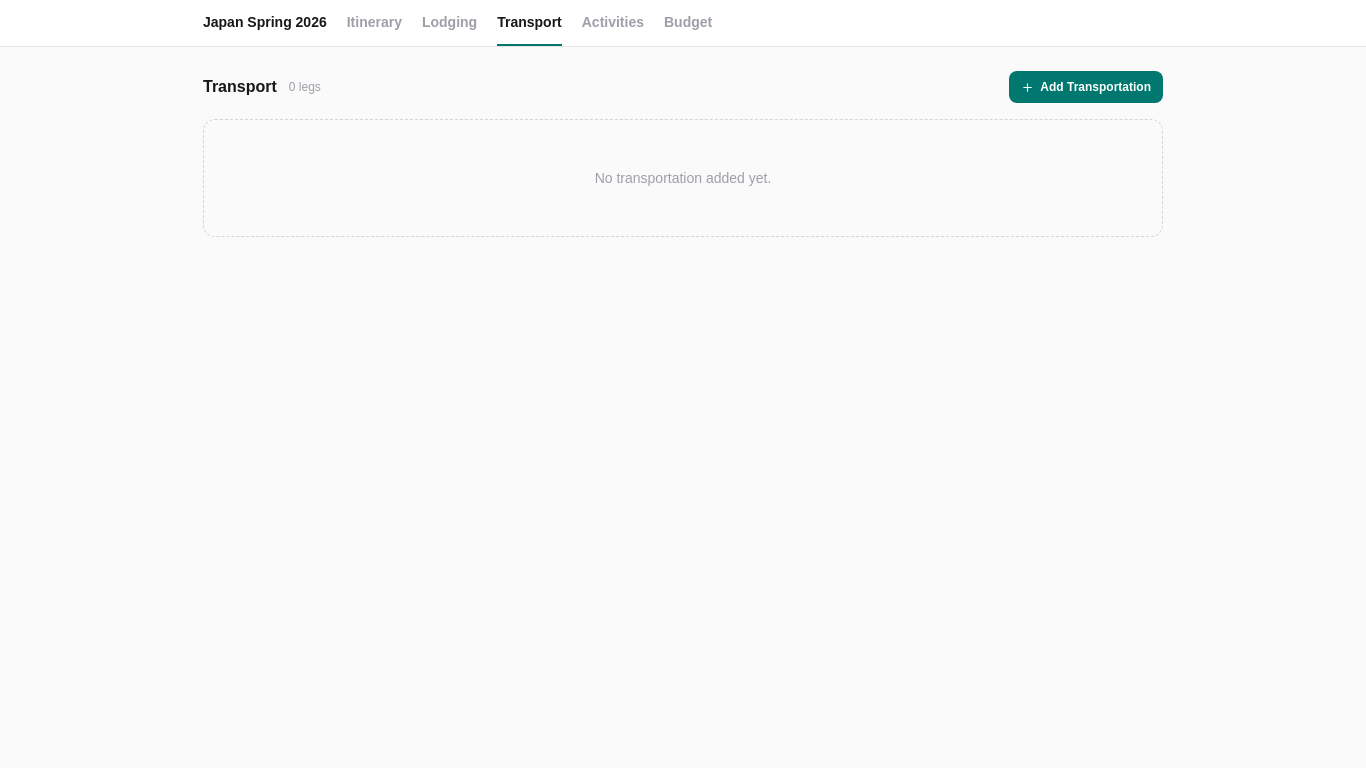
Test: Transportation page — Add form validation › shows an arrival-location error when only departure is filled
This screenshot has width=1366, height=768.
Click the button "Add Transportation" at (1086, 87), box [1009,71,1163,103]
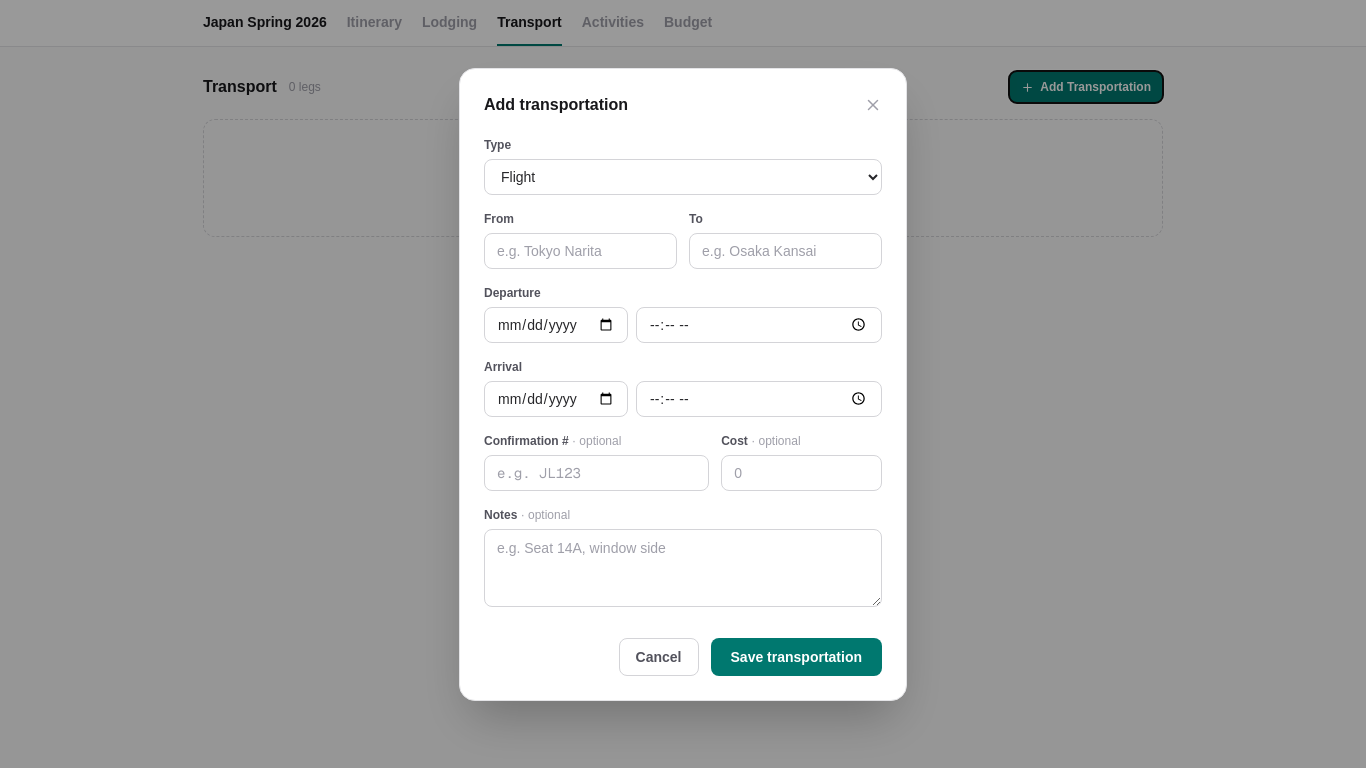
Type "Tokyo Narita" into the field with placeholder "e.g. Tokyo Narita" at (580, 250), box [484,232,677,268]
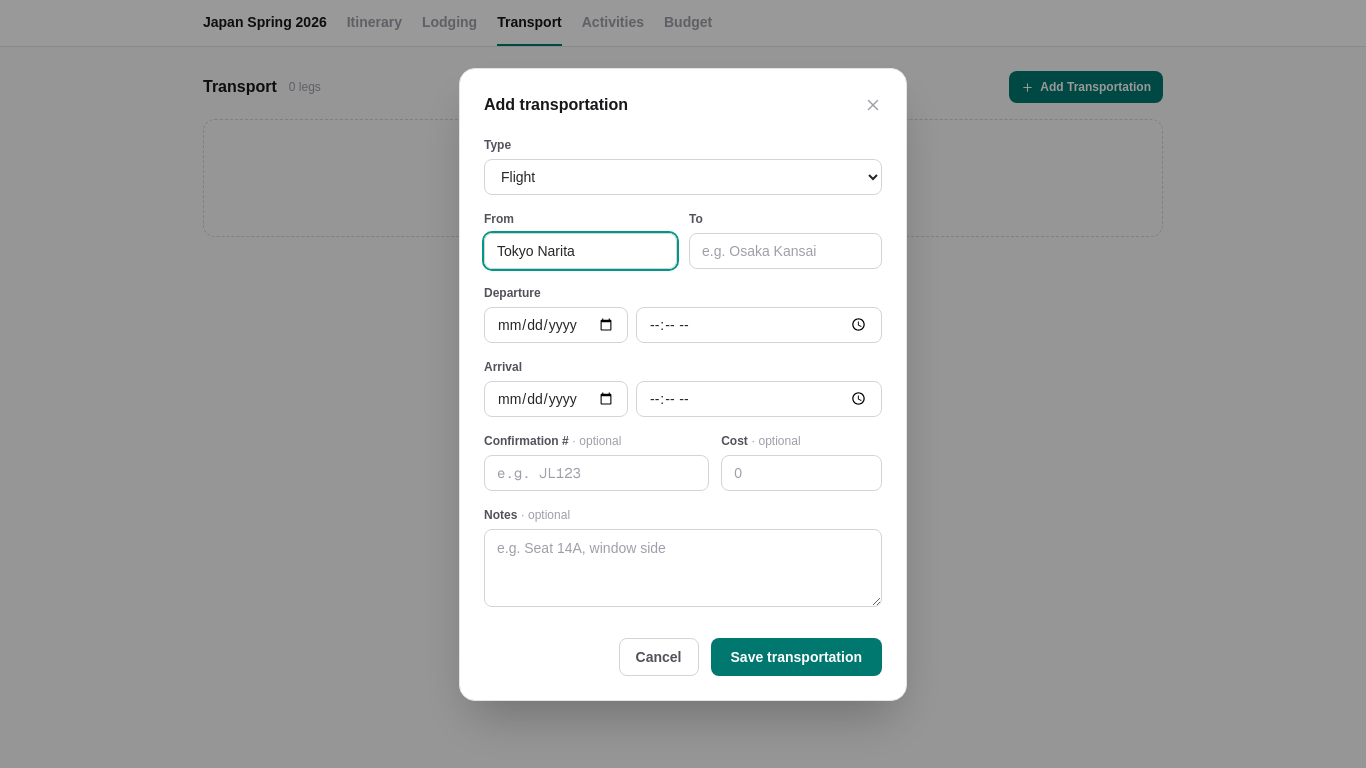
Click the button "Save transportation" at (796, 656), box [710,638,882,676]
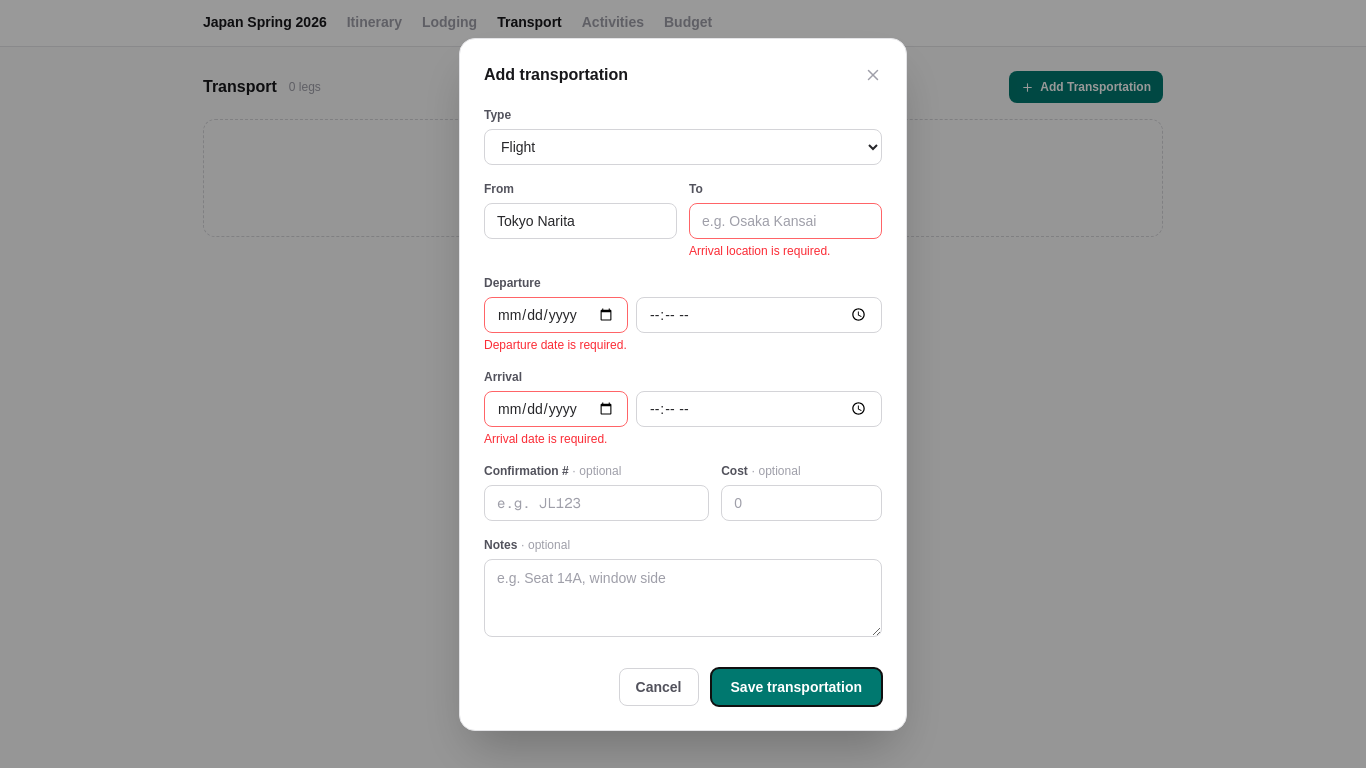
expect the text "Arrival location is required." is shown: met, box [689,244,830,258]
